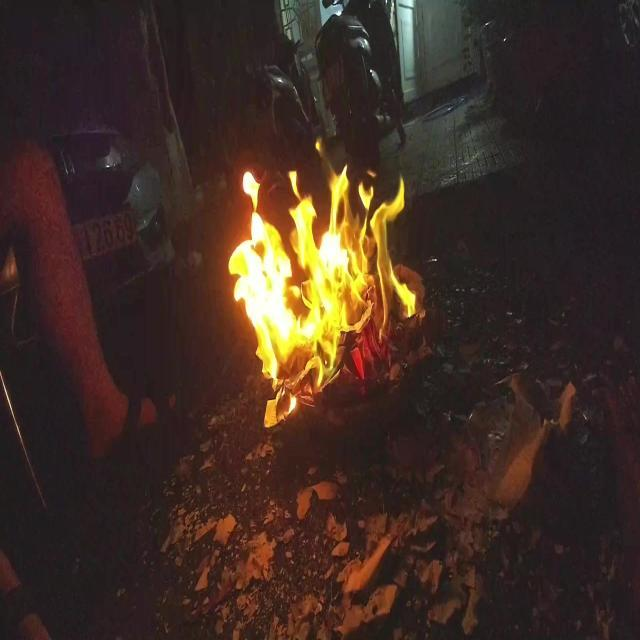Fire: (228, 136, 417, 414)
